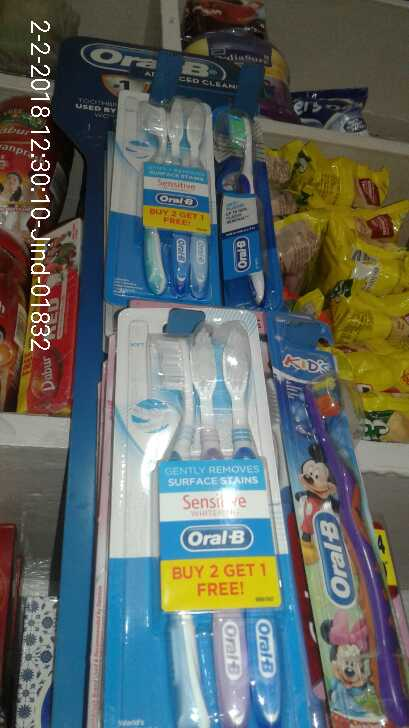oralb: (150, 307, 279, 709), (307, 361, 397, 728), (144, 106, 211, 295), (221, 120, 263, 305)
